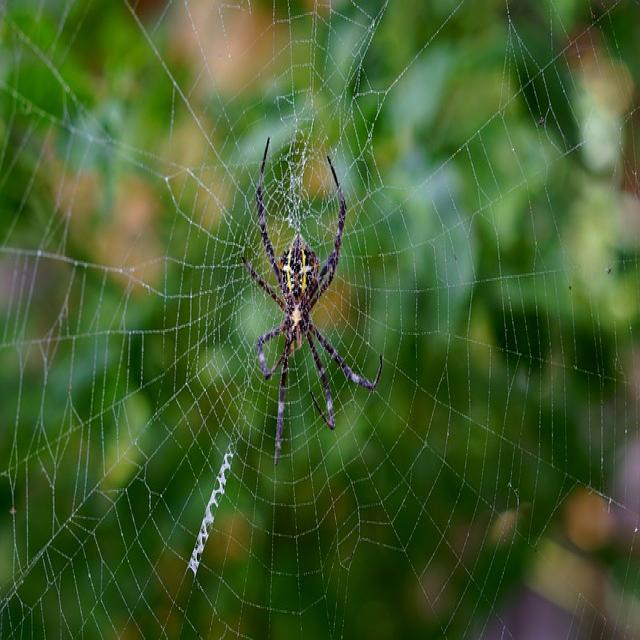spyder: (244, 141, 382, 463)
